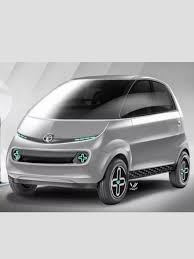Nano: (6, 75, 191, 206)
